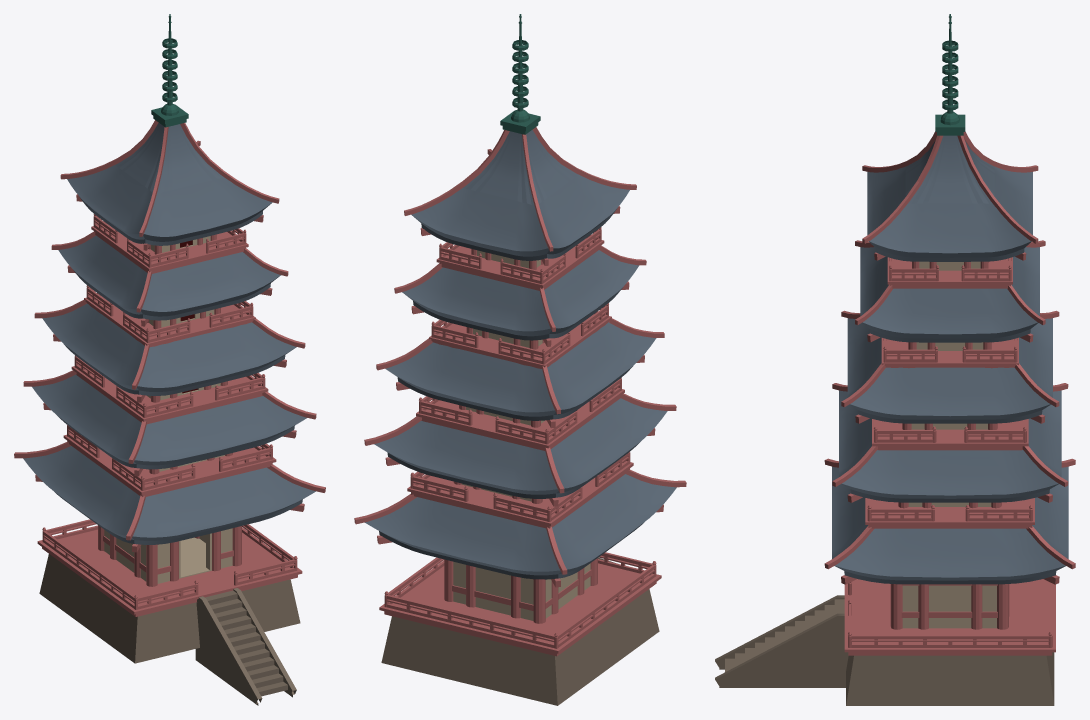
The model's file is Pagoda FBX (Fixed base).fbx.
The picture shows the model from 3 angles, left to right: view 1: azimuth 30°, elevation 25°; view 2: azimuth 150°, elevation 25°; view 3: azimuth 270°, elevation 25°; orthographic projection. The views are drawn at different scales.
Visible parts, largest first — view 1: polySurface906; view 2: polySurface906; view 3: polySurface906.
Boxes of the visible parts, <box> form: polySurface906: <box>14,14,325,705</box>; polySurface906: <box>354,14,686,705</box>; polySurface906: <box>715,14,1075,705</box>.
Size of the model in its own units: 25.22 by 73.52 by 36.16.
